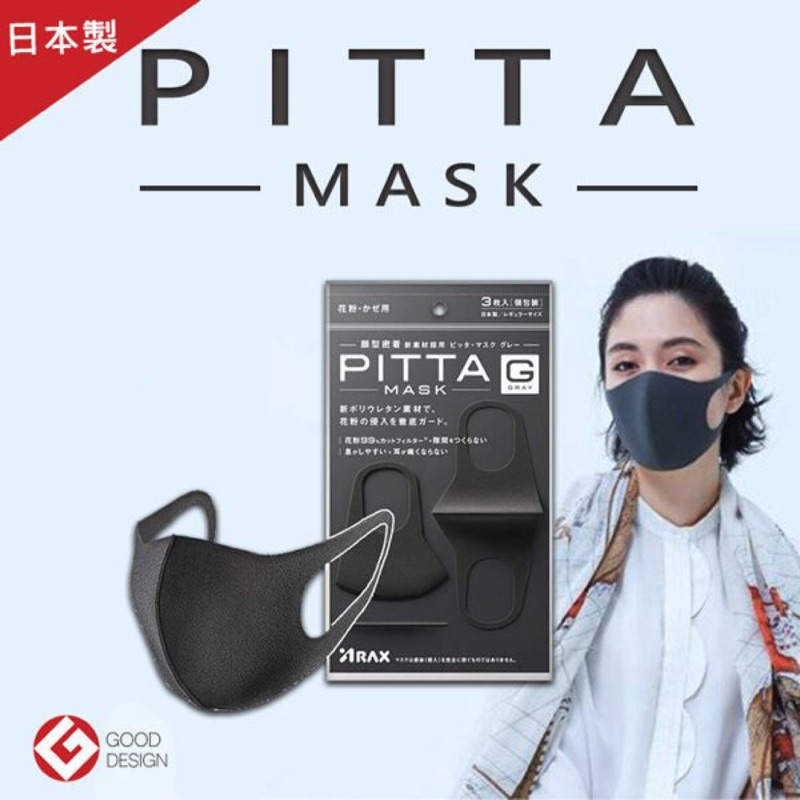Mask: (597, 294, 748, 482)
